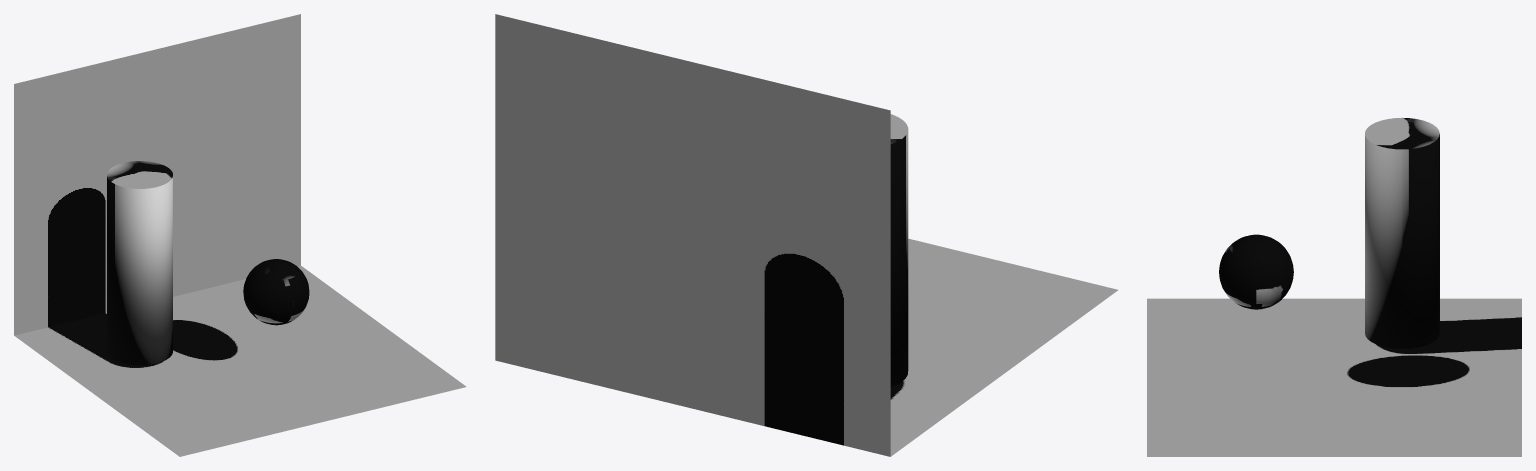
File: lightmap1.dae
3 views of the same model, side by side, from view 1: azimuth 30°, elevation 25°; view 2: azimuth 150°, elevation 25°; view 3: azimuth 270°, elevation 25° (orthographic). The views are drawn at different scales.
Visible parts, largest first — view 1: Sphere; view 2: Sphere; view 3: Sphere.
Part boxes in pixels (box(x1,y1,x2,y2)): Sphere: box(14, 14, 466, 456); Sphere: box(495, 14, 1117, 456); Sphere: box(1147, 117, 1521, 456).
Size of the model in its own units: 10 by 10 by 8.38.
Materials: 1 (1 with a texture image).
